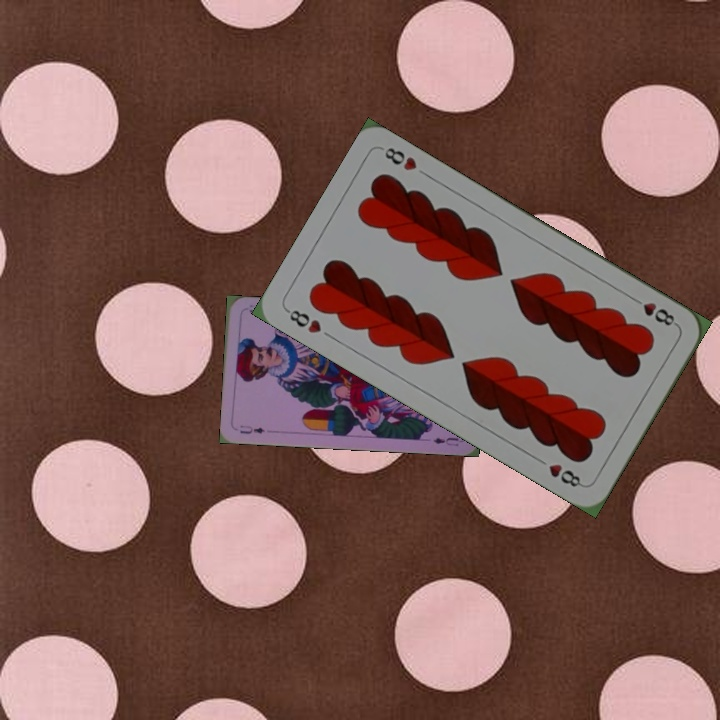EU: (236, 421, 267, 436)
H8: (627, 292, 680, 329), (282, 305, 324, 336)
